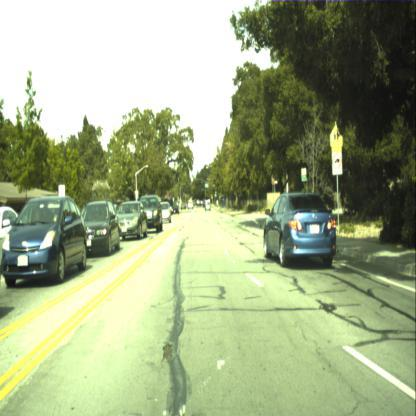Green: (200, 176, 202, 184), (214, 190, 217, 193)
